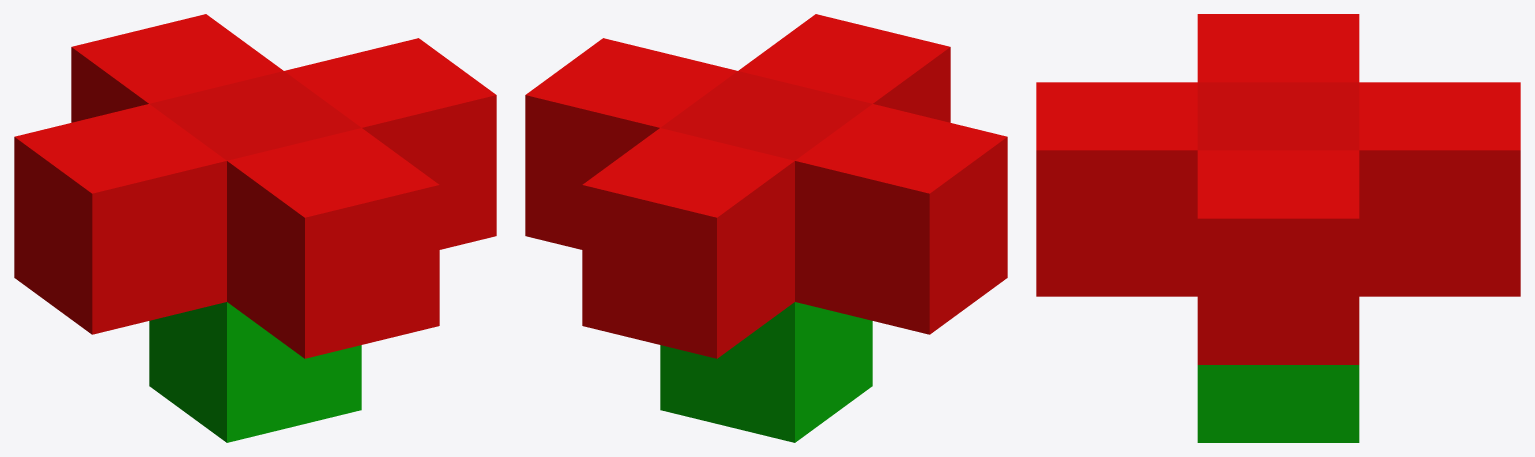
Rendered from redFlower.obj.
3 views of the same model, side by side, from view 1: azimuth 30°, elevation 25°; view 2: azimuth 150°, elevation 25°; view 3: azimuth 270°, elevation 25° (orthographic). The views are drawn at different scales.
Size of the model in its own units: 3 by 2 by 3.
1 material, 1 textured.
